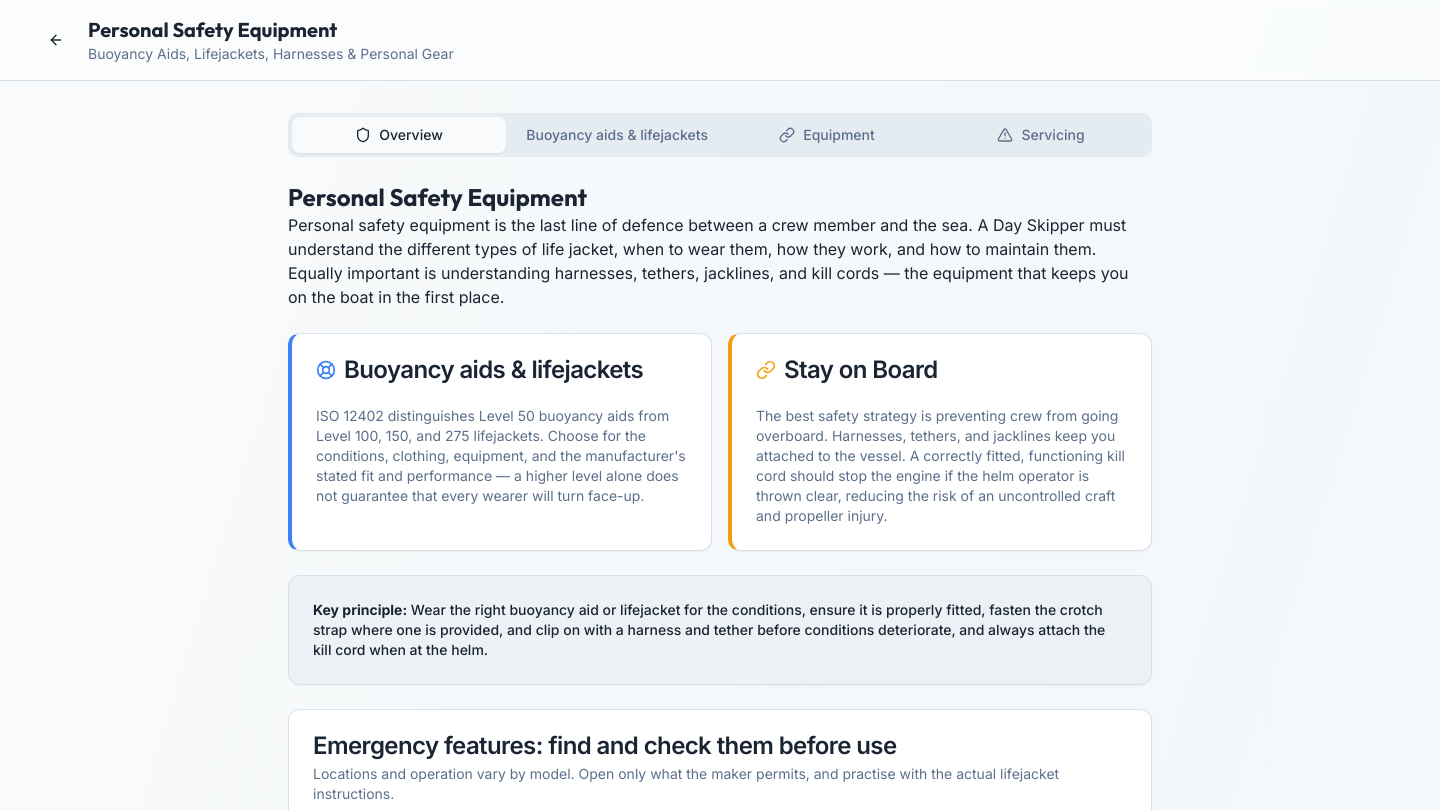
PersonalSafetyTheory Page › should cover harnesses and tethers in the Equipment tab (AC-1)
What coordinates should you click on to do the following:
click the tab "Equipment"
I would click on:
 (827, 135)
Its box is [720, 117, 934, 153].
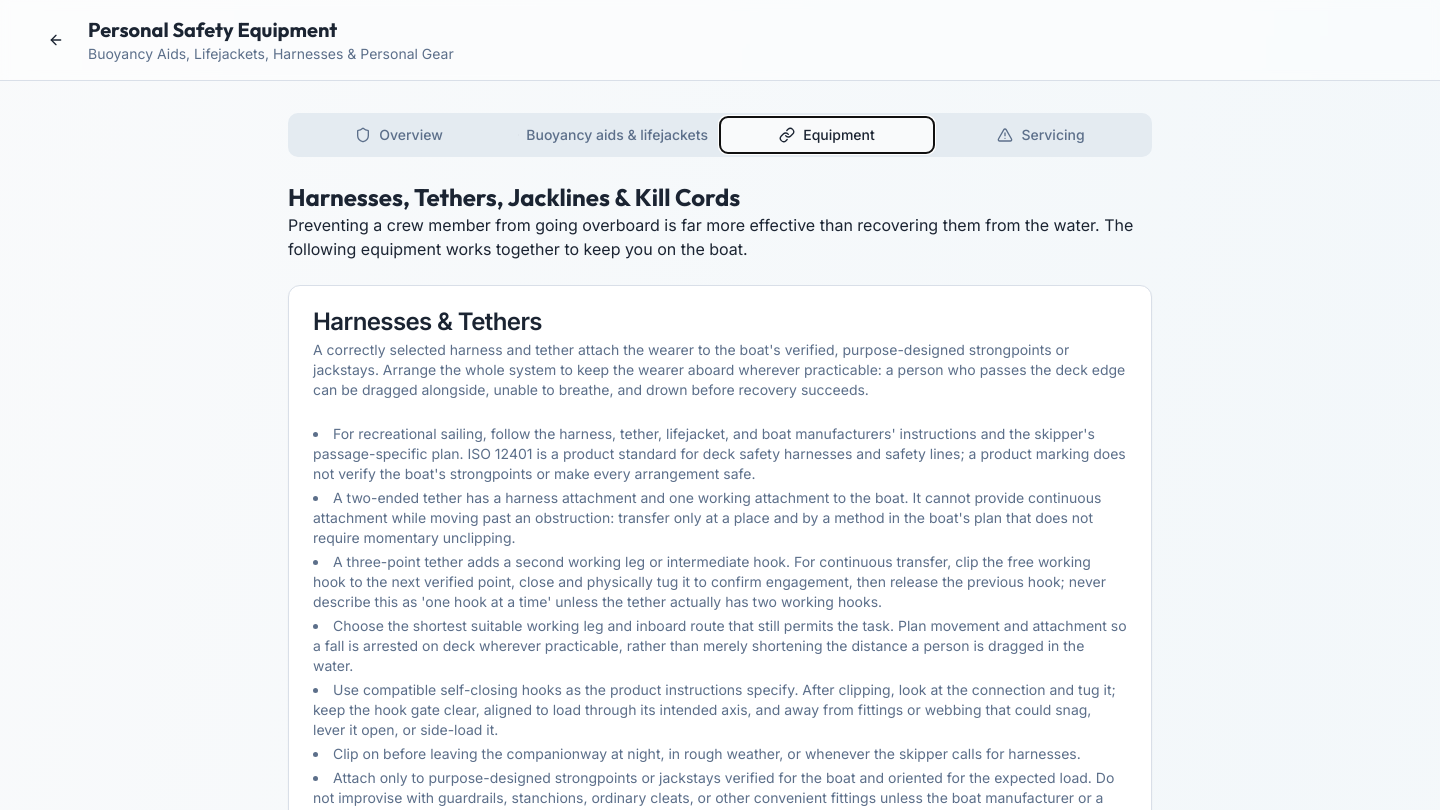
Now the text "Harnesses & Tethers" is shown, box [313, 307, 542, 336]
